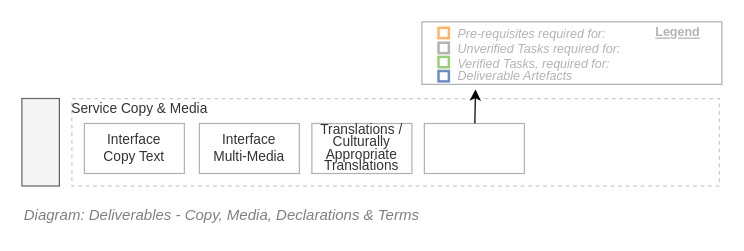
This 744x251 diagram has some shape labels left out. The shapes that lost their labels are listed below. From the top down, each one's centre as x and y in pixels, then its label:
point (40, 141): System
point (473, 148): Declarations / Disclosure Statements
